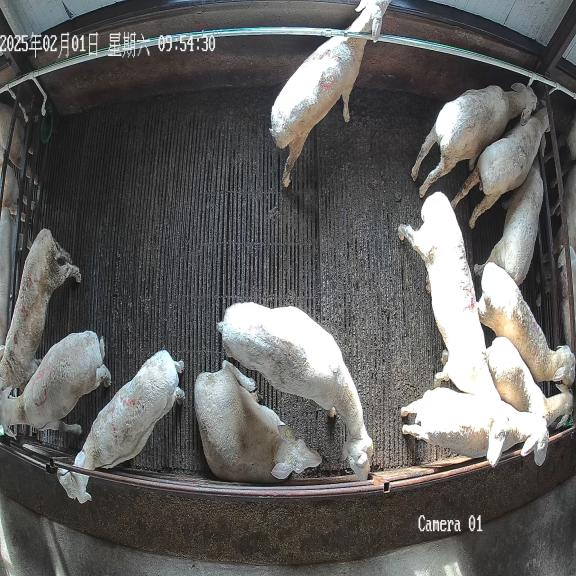drinking: (412, 83, 538, 196), (452, 106, 550, 226), (486, 161, 543, 285)
lying: (195, 361, 322, 482)
stand: (398, 192, 506, 466), (218, 302, 373, 480), (269, 0, 391, 187), (57, 350, 184, 503), (0, 229, 81, 390), (478, 262, 574, 386), (401, 387, 548, 466), (0, 331, 111, 434), (485, 337, 572, 426)
